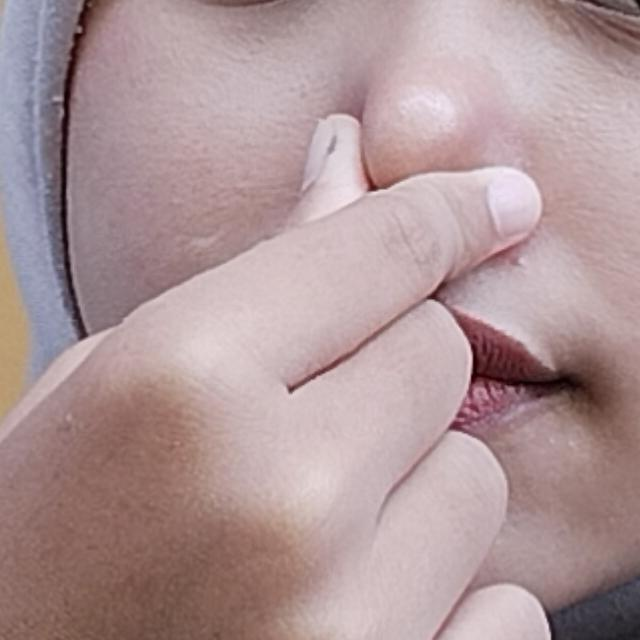bau: (0, 38, 596, 640)
